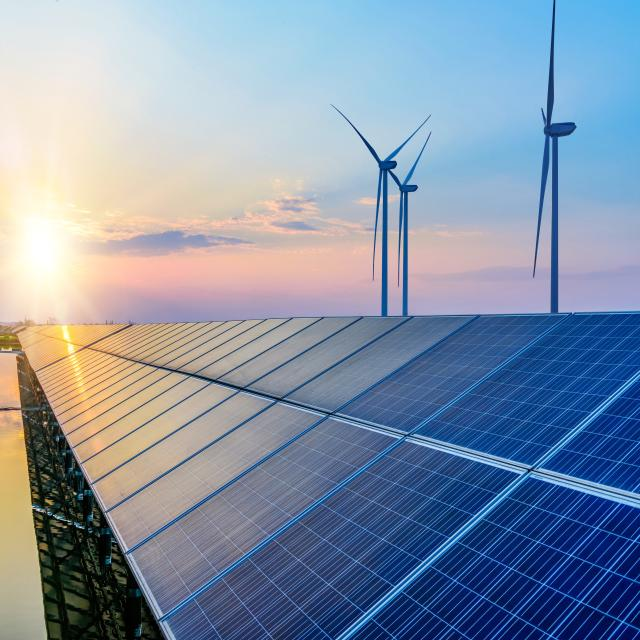clean-solar-panel: (20, 313, 640, 639)
